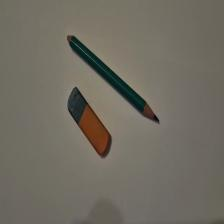eraser: (68, 87, 112, 157)
pencil: (68, 35, 161, 123)
